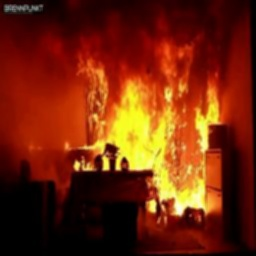fire: (64, 27, 227, 224)
